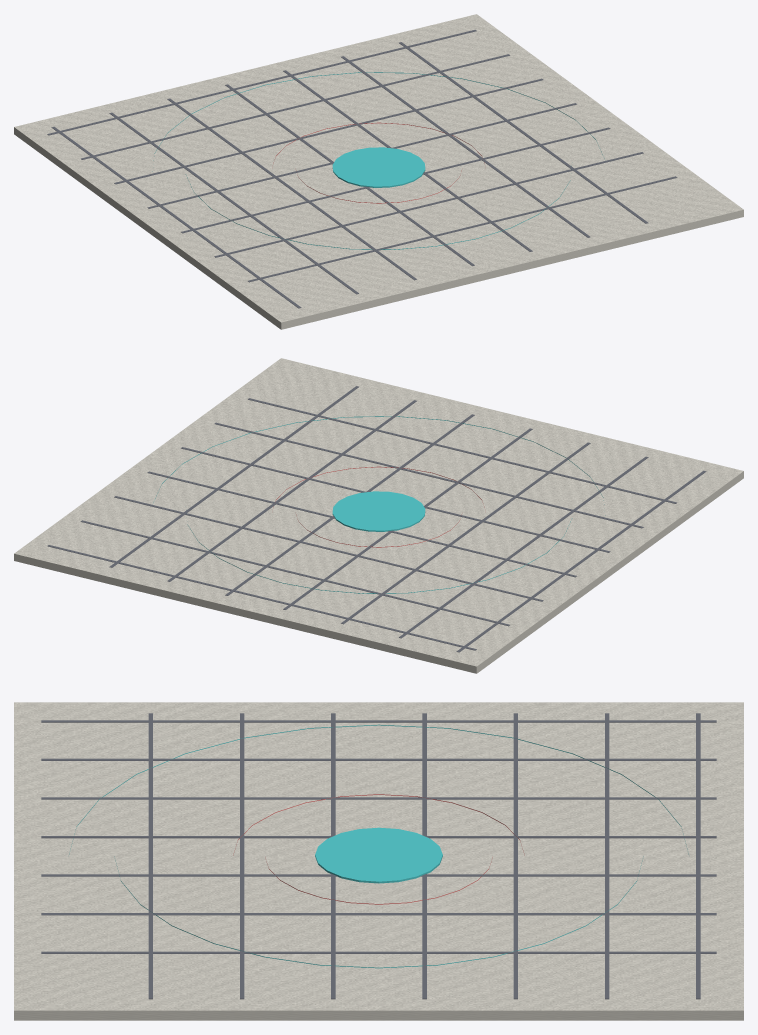
Rendered from theme-park-rides-and-coasters-theme-park-rides-and-coa-c40c9e38__28700.glb.
The picture shows the model from 3 angles, top to bottom: view 1: azimuth 30°, elevation 25°; view 2: azimuth 150°, elevation 25°; view 3: azimuth 270°, elevation 25°; orthographic projection. The views are drawn at different scales.
Visible parts, largest first — view 1: theme-park-rides-and-coasters-path-plaza-tile; view 2: theme-park-rides-and-coasters-path-plaza-tile; view 3: theme-park-rides-and-coasters-path-plaza-tile.
Boxes of the visible parts, <box> form: theme-park-rides-and-coasters-path-plaza-tile: <box>14,14,743,329</box>; theme-park-rides-and-coasters-path-plaza-tile: <box>14,358,743,673</box>; theme-park-rides-and-coasters-path-plaza-tile: <box>14,702,743,1020</box>.
Bounding box in the file's own units: 8 × 0.1421 × 8.
4 materials, 1 textured.
